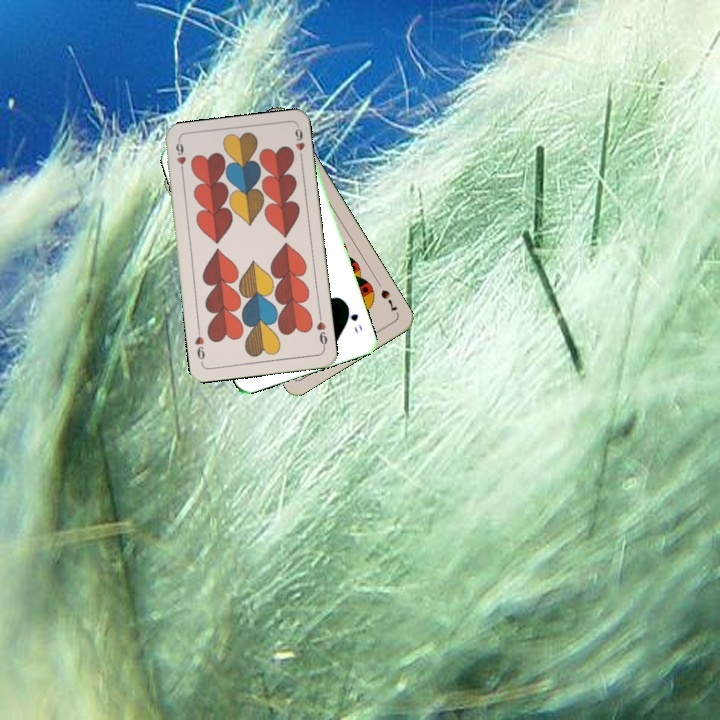GO: (343, 301, 365, 336)
H9: (172, 138, 188, 178), (313, 318, 330, 351)
S7: (377, 285, 400, 314)
